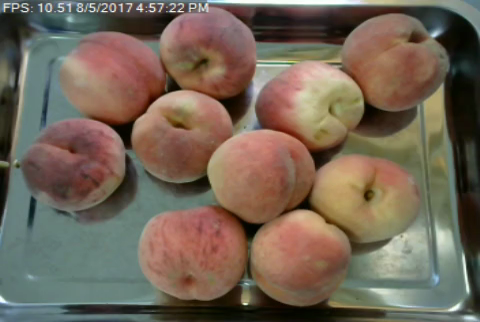Peach: (339, 12, 447, 113), (137, 206, 248, 301), (204, 128, 315, 223), (310, 152, 422, 246), (254, 60, 362, 153), (21, 117, 128, 210), (250, 208, 351, 306), (60, 29, 164, 124), (134, 89, 235, 184), (159, 6, 256, 98)
